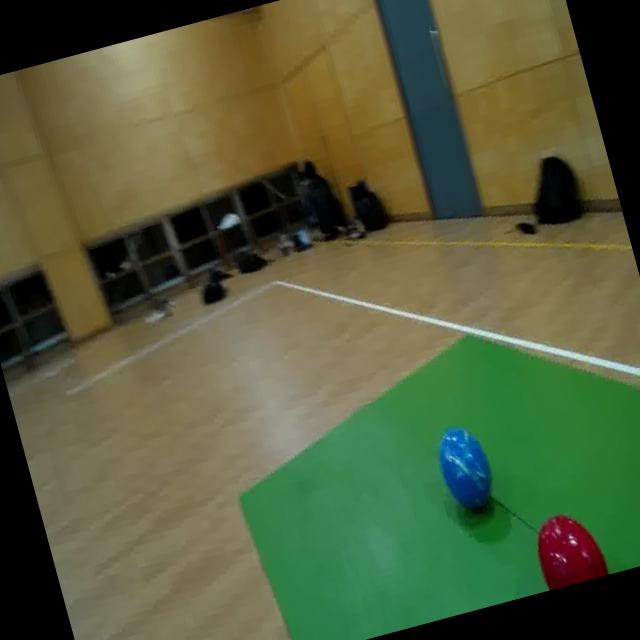blue_ball: (424, 409, 502, 528)
red_ball: (524, 495, 614, 591)
